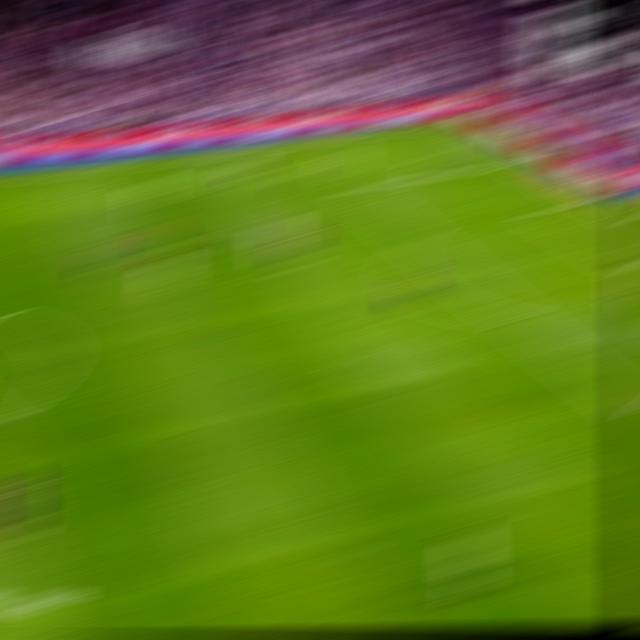bigarea_top_inner: (340, 184, 368, 192)
bigarea_top_outter: (511, 156, 539, 162)
bottom_arc_area_intersection: (500, 310, 532, 325)
corner: (440, 121, 469, 123)
smallarea_top_inner: (526, 207, 553, 212)
top_arc_area_intersection: (403, 233, 432, 244)
